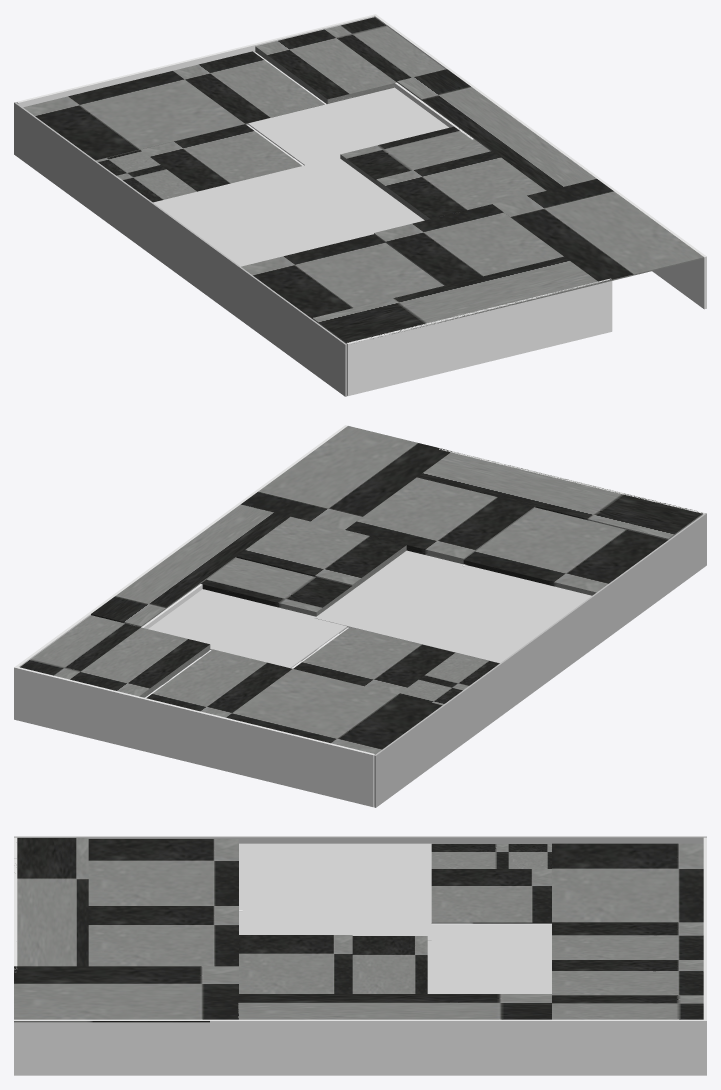
The model's file is basic_house_map.glb.
3 views of the same model, one above another, from view 1: azimuth 30°, elevation 25°; view 2: azimuth 150°, elevation 25°; view 3: azimuth 270°, elevation 25° (orthographic). The views are drawn at different scales.
Visible parts, largest first — view 1: Cube.010, Cube.032, Cube.003, Cube.038, Cube.033, Cube.031, Cube.039, Cube.030, Cube.027, Cube.037, Cube.029, Cube (+8 smaller); view 2: Cube.006, Cube.010, Cube.032, Cube.038, Cube.031, Cube.033, Cube.039, Cube.030, Cube.027, Cube.037, Cube.029, Cube (+7 smaller); view 3: Cube.004, Cube.032, Cube.038, Cube.033, Cube.031, Cube.039, Cube.030, Cube.027, Cube.037, Cube.029, Cube, Cube.034 (+8 smaller).
Part boxes in pixels (x1,y1,x2,y2): Cube.010: (14, 102, 346, 396); Cube.032: (153, 157, 424, 266); Cube.003: (346, 278, 612, 395); Cube.038: (492, 179, 703, 283); Cube.033: (23, 71, 244, 160); Cube.031: (241, 234, 443, 318); Cube.039: (312, 256, 599, 343); Cube.030: (374, 204, 563, 285); Cube.027: (248, 87, 448, 165); Cube.037: (397, 69, 596, 190); Cube.029: (376, 151, 546, 220); Cube: (140, 124, 301, 191); Cube.006: (16, 667, 374, 807); Cube.010: (374, 513, 706, 807); Cube.032: (315, 550, 591, 663); Cube.038: (241, 426, 451, 529); Cube.031: (463, 507, 667, 595); Cube.033: (226, 669, 442, 754); Cube.039: (417, 451, 702, 539); Cube.030: (345, 477, 535, 564); Cube.027: (148, 589, 347, 668); Cube.037: (91, 504, 290, 627); Cube.029: (236, 516, 406, 589); Cube: (293, 627, 454, 694); Cube.004: (14, 1019, 706, 1075); Cube.032: (239, 843, 431, 940); Cube.038: (14, 966, 238, 1022); Cube.033: (552, 843, 703, 922); Cube.031: (88, 839, 238, 905); Cube.039: (17, 838, 88, 966); Cube.030: (88, 906, 238, 966); Cube.027: (427, 924, 551, 993); Cube.037: (238, 994, 551, 1019); Cube.029: (239, 935, 352, 993); Cube: (431, 869, 551, 923); Cube.034: (552, 922, 703, 959).
Bounding box in the file's own units: 807 × 112 × 1279.
Materials: 9 (2 with a texture image).
